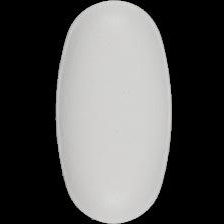21695-399: (0, 0, 224, 224)
